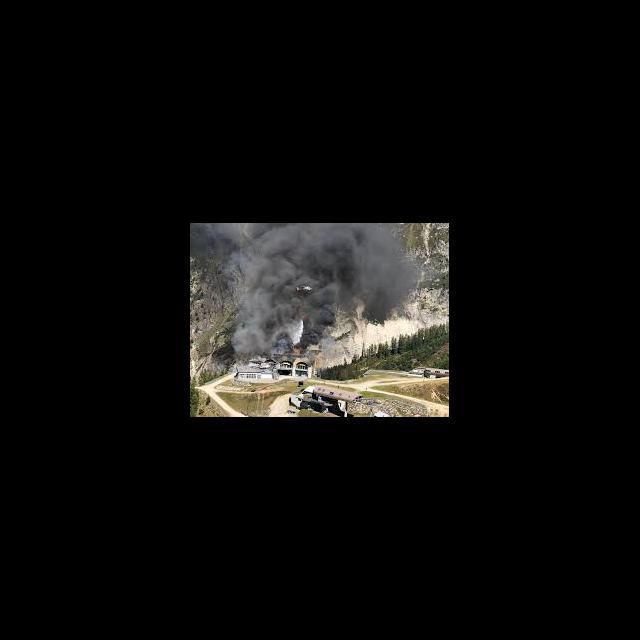Smoke: (207, 223, 420, 353)
